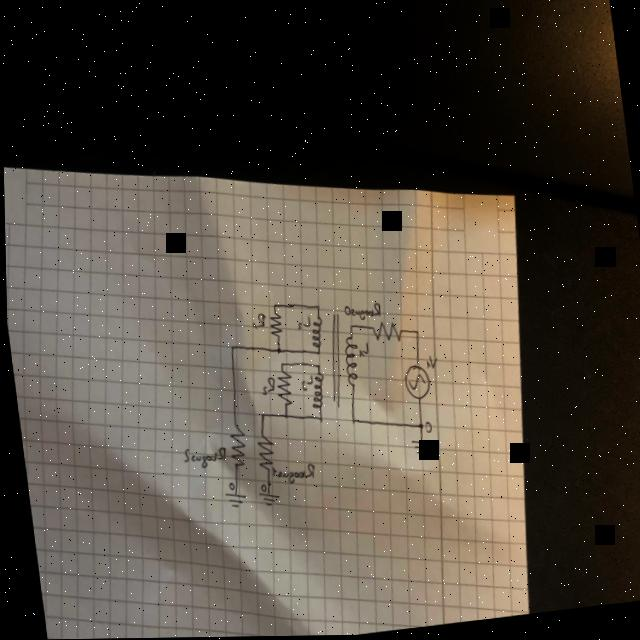ground: (254, 489, 278, 508), (221, 490, 245, 508), (406, 438, 429, 456)
junction: (256, 411, 263, 420), (414, 422, 421, 430), (273, 346, 279, 354), (314, 415, 320, 421), (269, 302, 275, 308), (347, 417, 352, 424), (280, 412, 285, 419), (412, 330, 417, 336), (277, 360, 282, 366), (313, 304, 318, 310), (227, 344, 232, 350), (346, 323, 351, 329), (313, 350, 318, 356), (313, 363, 318, 369)
resistor: (223, 421, 245, 466), (252, 430, 274, 472), (368, 318, 401, 345), (271, 369, 292, 406), (265, 310, 281, 337)
source: (399, 362, 430, 401)
text: (178, 443, 225, 471), (268, 461, 313, 485), (340, 302, 379, 320), (257, 376, 274, 395), (248, 312, 264, 329), (297, 373, 311, 391), (294, 314, 309, 330), (422, 355, 436, 370), (354, 341, 367, 357), (421, 419, 429, 433), (256, 483, 264, 492), (224, 481, 232, 490)
transformer: (297, 310, 362, 410)
